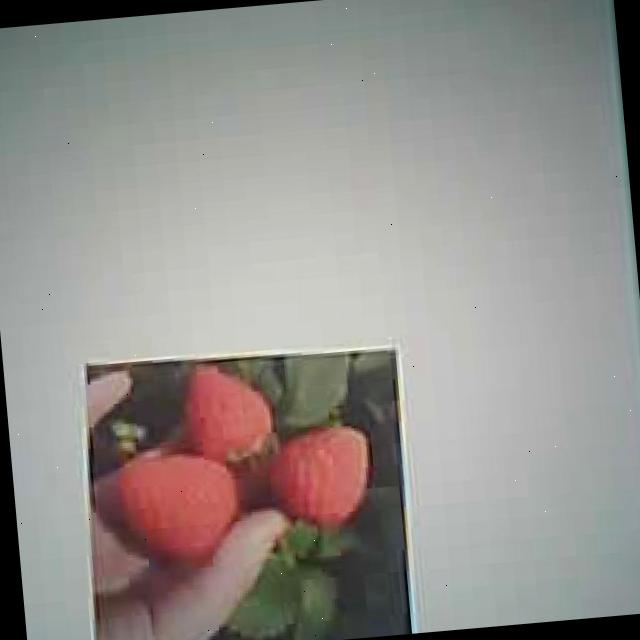strawberry: (122, 450, 240, 568), (266, 425, 374, 531), (179, 361, 273, 460)
